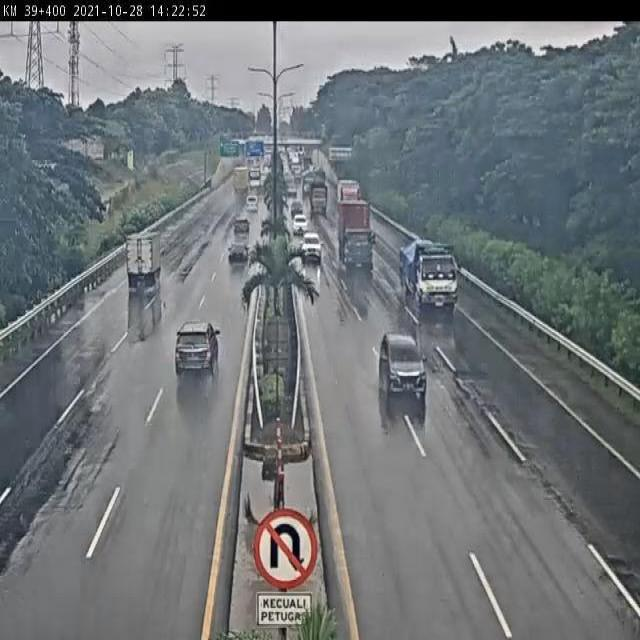car: (377, 331, 429, 400), (174, 320, 220, 376), (299, 232, 325, 264), (229, 240, 250, 267), (292, 215, 310, 237)
truck: (399, 240, 464, 313), (339, 200, 375, 273), (125, 231, 166, 289)
